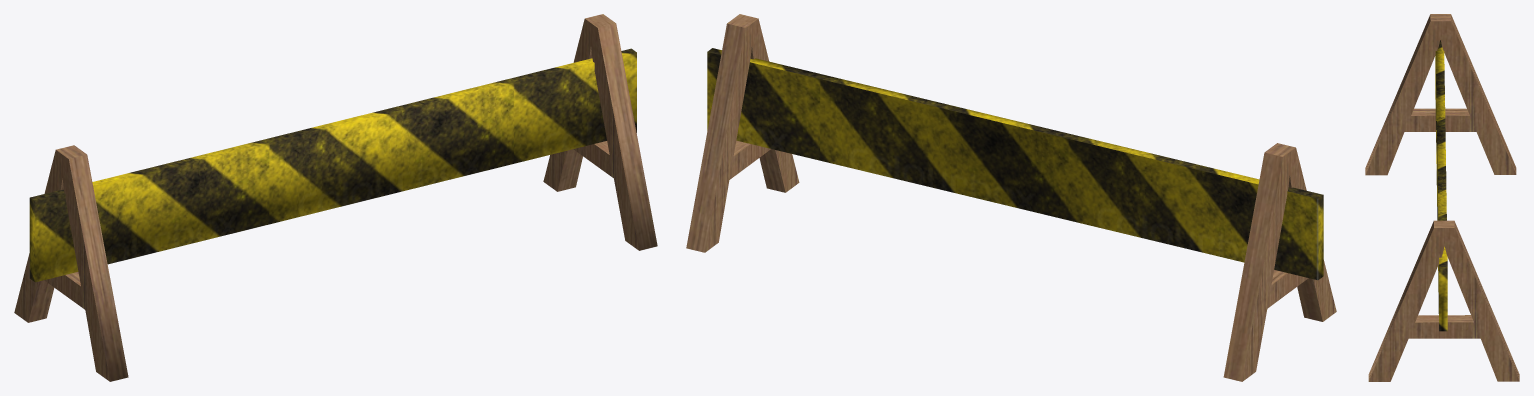
File: block1.fbx
The picture shows the model from 3 angles, left to right: view 1: azimuth 30°, elevation 25°; view 2: azimuth 150°, elevation 25°; view 3: azimuth 270°, elevation 25°; orthographic projection. The views are drawn at different scales.
Parts seen in each view (by area): view 1: Cube_8, A_2; view 2: Cube_8, A_2; view 3: A_2, Cube_8.
Boxes of the visible parts, x1,y1,x2,y2 form: Cube_8: (29, 48, 636, 282); A_2: (14, 14, 657, 381); Cube_8: (707, 48, 1323, 280); A_2: (686, 14, 1336, 381); A_2: (1365, 14, 1519, 381); Cube_8: (1435, 40, 1447, 331).
Size of the model in its own units: 11648 by 3557 by 3235.
